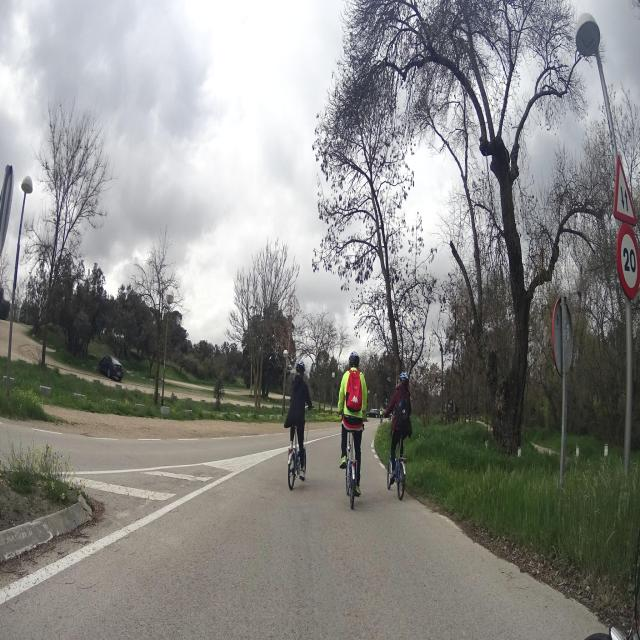bike: (340, 405, 365, 509), (386, 407, 412, 501)
car: (98, 354, 124, 382)
